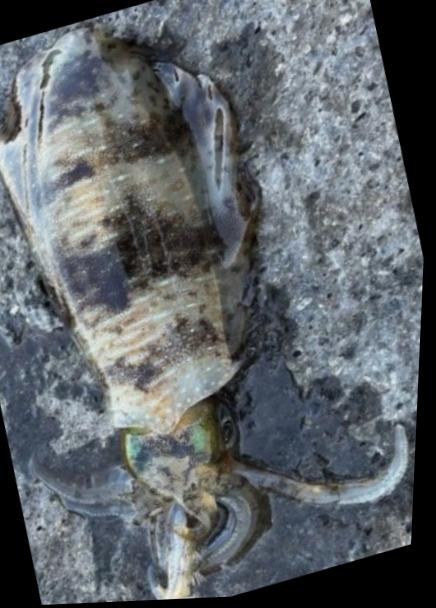Cephalopod: (0, 29, 412, 602)
